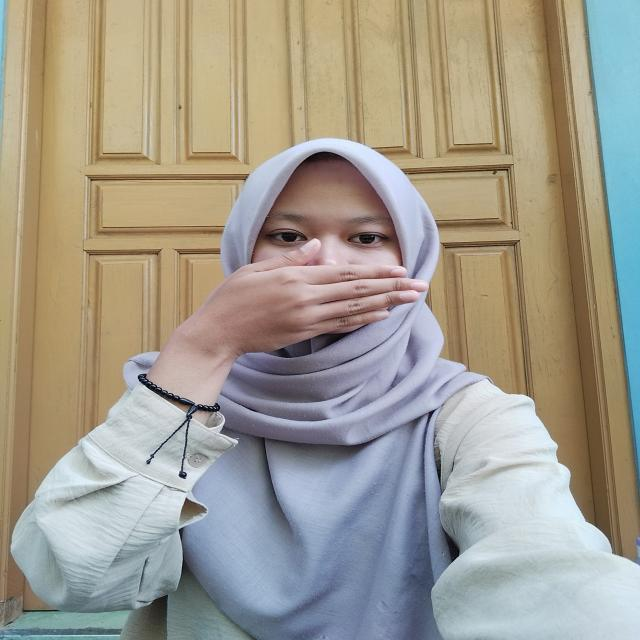buruk: (162, 238, 436, 363)
